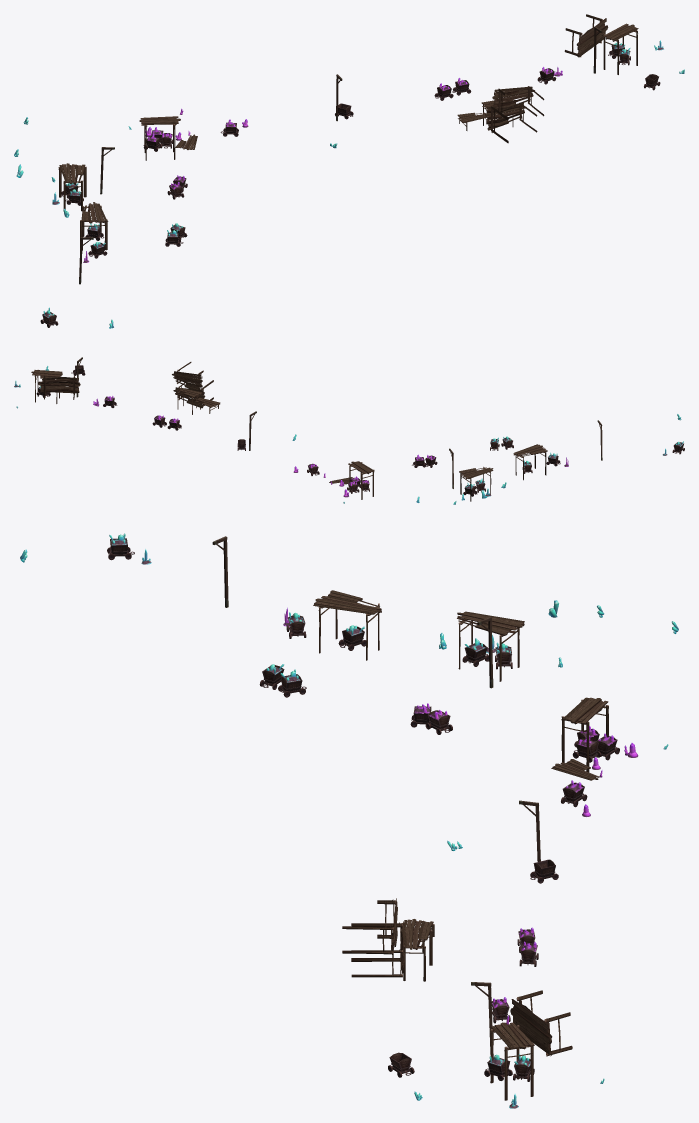
The model's file is area_07_shuijing.FBX.
3 renders of one model, top to bottom at view 1: azimuth 30°, elevation 25°; view 2: azimuth 150°, elevation 25°; view 3: azimuth 270°, elevation 25°, orthographic. The views are drawn at different scales.
Visible parts, largest first — view 1: area_07_shuijing; view 2: area_07_shuijing; view 3: area_07_shuijing.
Part boxes in pixels (x1,y1,x2,y2): area_07_shuijing: (14,14,684,328); area_07_shuijing: (14,357,684,504); area_07_shuijing: (20,533,678,1108).
Bounding box in the file's own units: 13939 × 971 × 6981.
